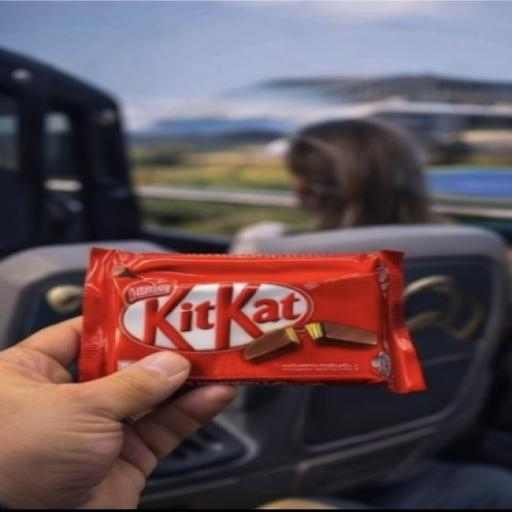kitkat: (45, 229, 465, 444)
